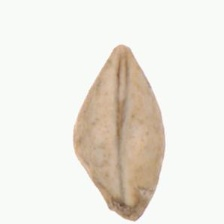L1: (106, 196, 147, 222), (107, 40, 135, 70)
L2: (73, 43, 166, 220)
